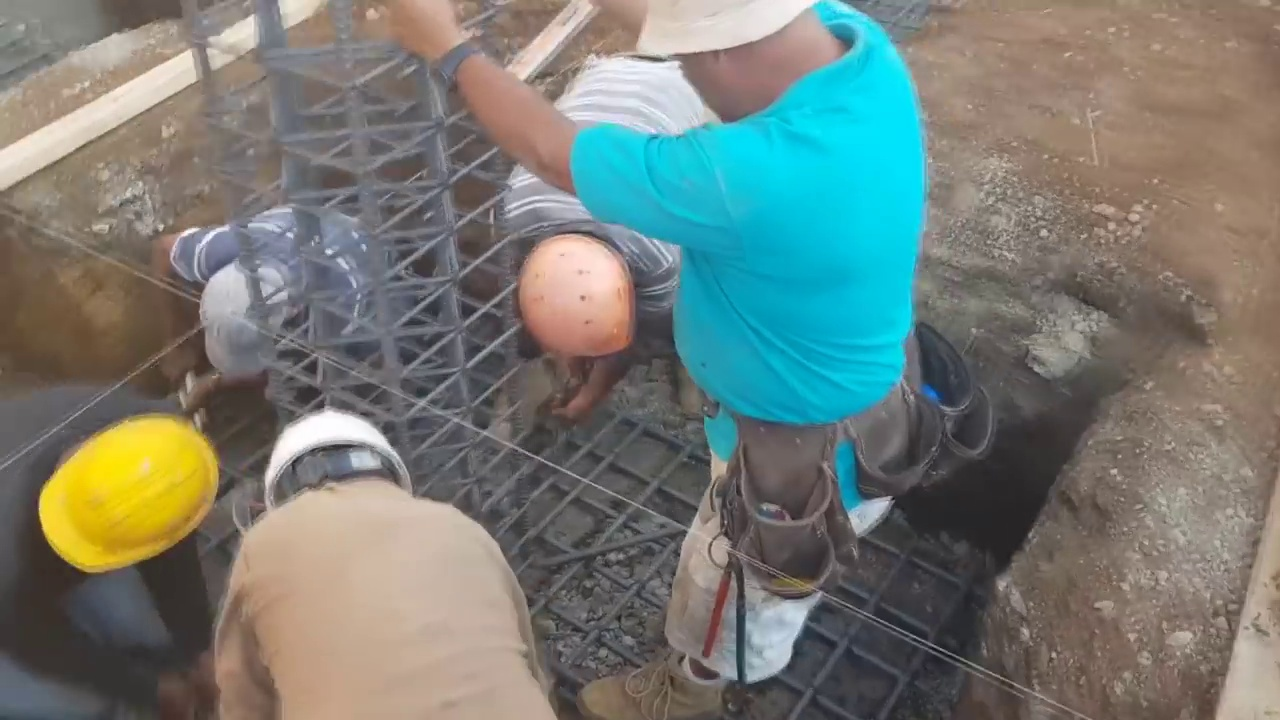helmet: (34, 414, 218, 573), (516, 232, 639, 362), (261, 413, 414, 504)
helmet-off: (625, 0, 858, 120), (196, 257, 295, 372)
helmet-on: (25, 408, 220, 575), (513, 226, 645, 371), (261, 407, 416, 514)
person: (364, 0, 936, 719), (210, 405, 564, 720), (496, 41, 715, 442), (0, 389, 225, 719), (153, 202, 403, 435)
